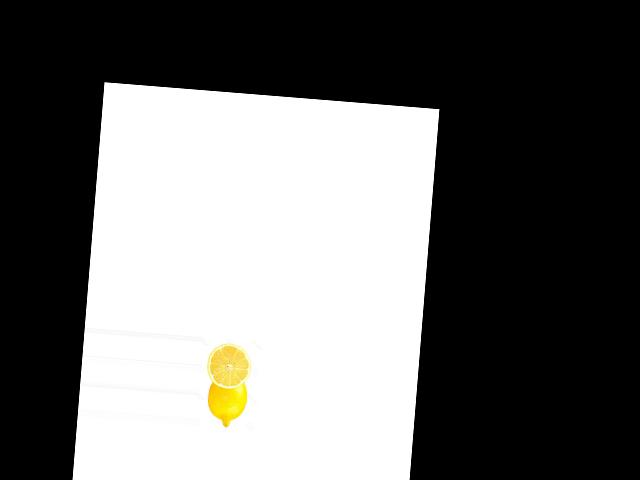lemon: (199, 373, 251, 428)
